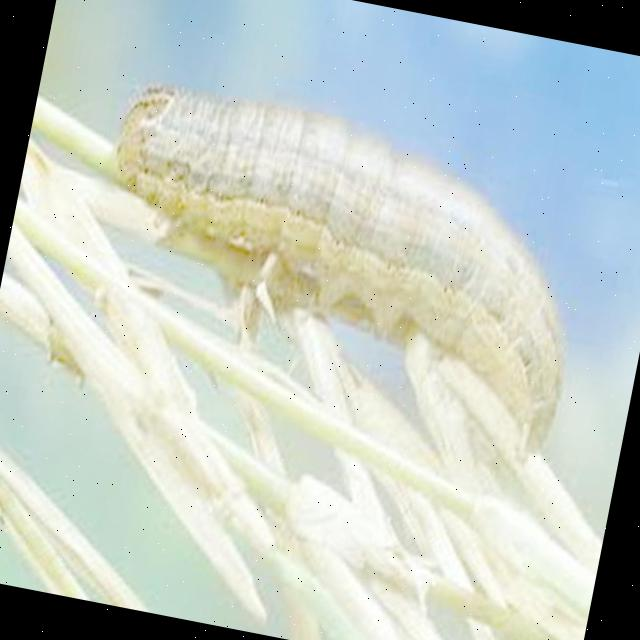worm: (1, 52, 640, 640), (69, 71, 610, 477)
